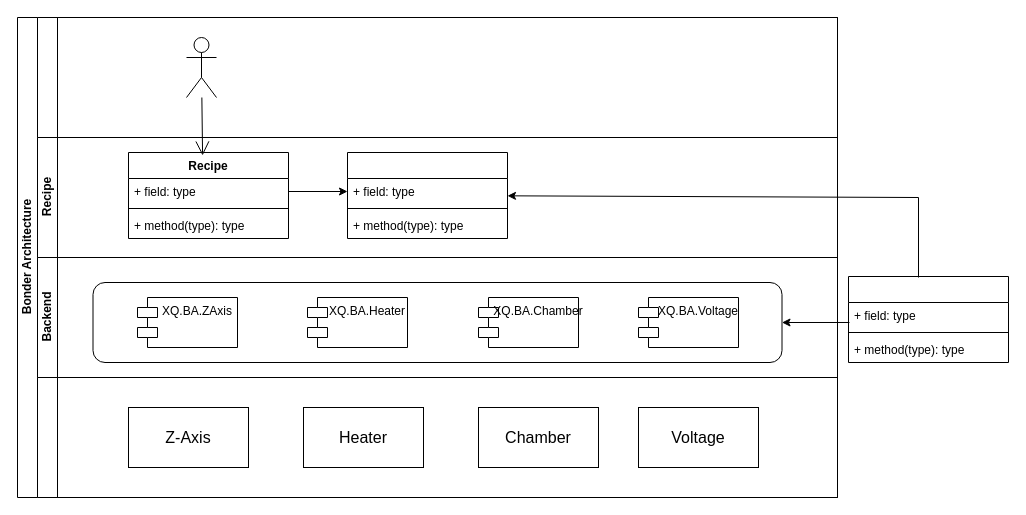
Some shapes in this 1026 by 515 pixel diagram are drawn without their labels. The box of each missing label's shape, as (x1, y1, x2, y2) in pixels:
Frontend: (36, 16, 838, 138)
Hardware: (36, 376, 838, 498)
RecipeExecutor: (346, 152, 508, 238)
RecipeWatcher: (848, 276, 1008, 362)
User: (186, 36, 216, 98)
